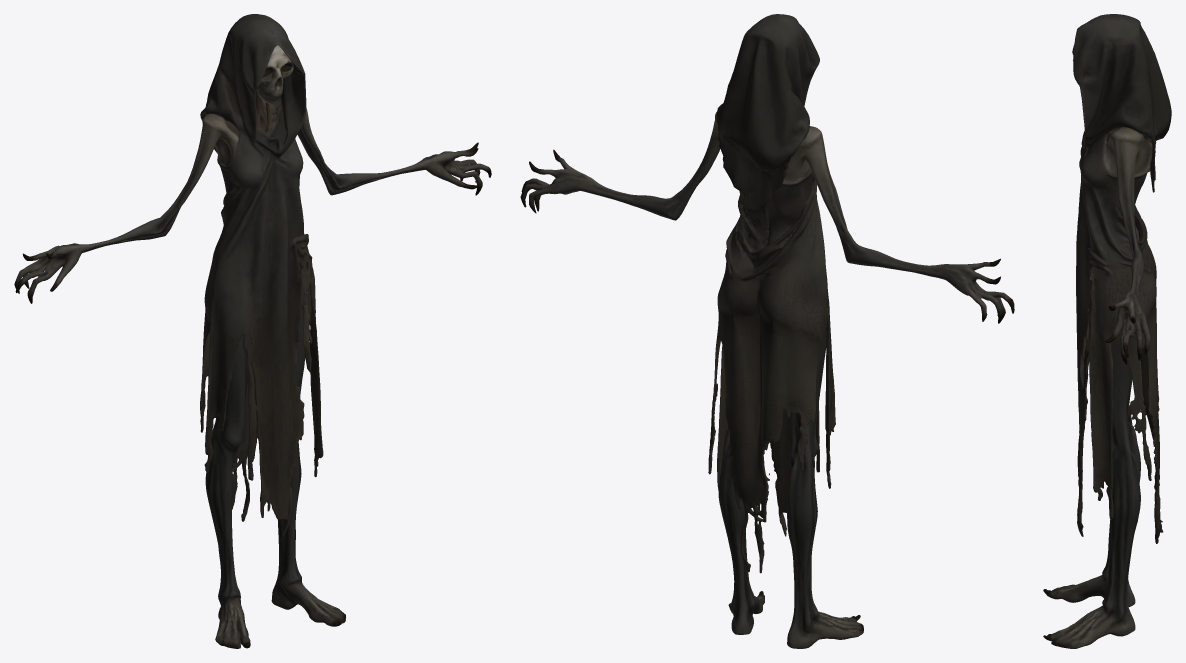
Rendered from boss_lantern.glb.
3 views of the same model, side by side, from view 1: azimuth 30°, elevation 25°; view 2: azimuth 150°, elevation 25°; view 3: azimuth 270°, elevation 25° (orthographic). The views are drawn at different scales.
Visible parts, largest first — view 1: world; view 2: world; view 3: world.
Boxes of the visible parts, x1,y1,x2,y2 form: world: (14,14,491,648); world: (520,14,1014,648); world: (1043,14,1171,648).
Bounding box in the file's own units: 0.8341 × 1 × 0.1931.
Materials: 1 (1 with a texture image).
